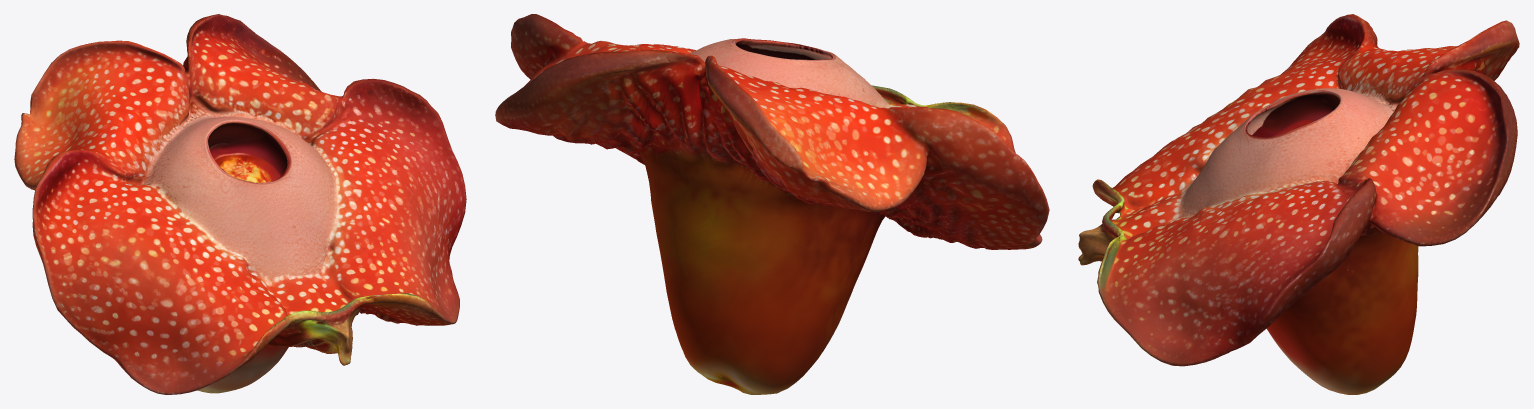
File: Raflesia.fbx
3 views of the same model, side by side, from view 1: azimuth 30°, elevation 25°; view 2: azimuth 150°, elevation 25°; view 3: azimuth 270°, elevation 25° (orthographic). The views are drawn at different scales.
Parts seen in each view (by area): view 1: model; view 2: model; view 3: model.
Boxes of the visible parts, x1=… form: model: x1=14, y1=14, x2=466, y2=394; model: x1=495, y1=14, x2=1049, y2=394; model: x1=1078, y1=14, x2=1519, y2=394.
Size of the model in its own units: 189 by 136 by 163.
